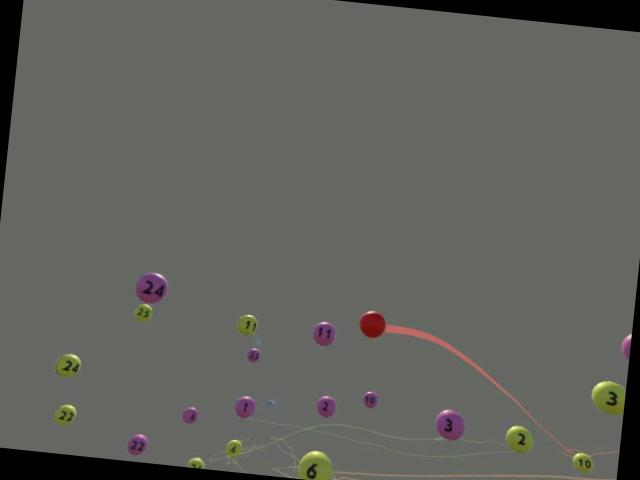ball_01_pink: (234, 395, 256, 419)
ball_02_pink: (314, 394, 338, 420)
ball_02_yellow: (503, 423, 535, 454)
ball_03_pink: (433, 408, 466, 441)
ball_03_yellow: (588, 378, 626, 416)
ball_04_pink: (180, 406, 200, 426)
ball_04_yellow: (224, 440, 243, 458)
ball_06_yellow: (296, 448, 334, 480)
ball_10_pink: (361, 390, 379, 409)
ball_10_yellow: (570, 450, 594, 474)
ball_11_pink: (312, 320, 336, 347)
ball_11_yellow: (235, 313, 258, 337)
ball_22_pink: (126, 433, 150, 457)
ball_22_yellow: (53, 403, 78, 427)
ball_24_pink: (134, 270, 170, 305)
ball_24_yellow: (52, 352, 82, 379)
ball_25_pink: (246, 347, 262, 363)
ball_25_yellow: (132, 302, 152, 322)
ball_unknown: (619, 332, 631, 360), (187, 455, 204, 468)
user_cursor: (357, 309, 387, 339)
